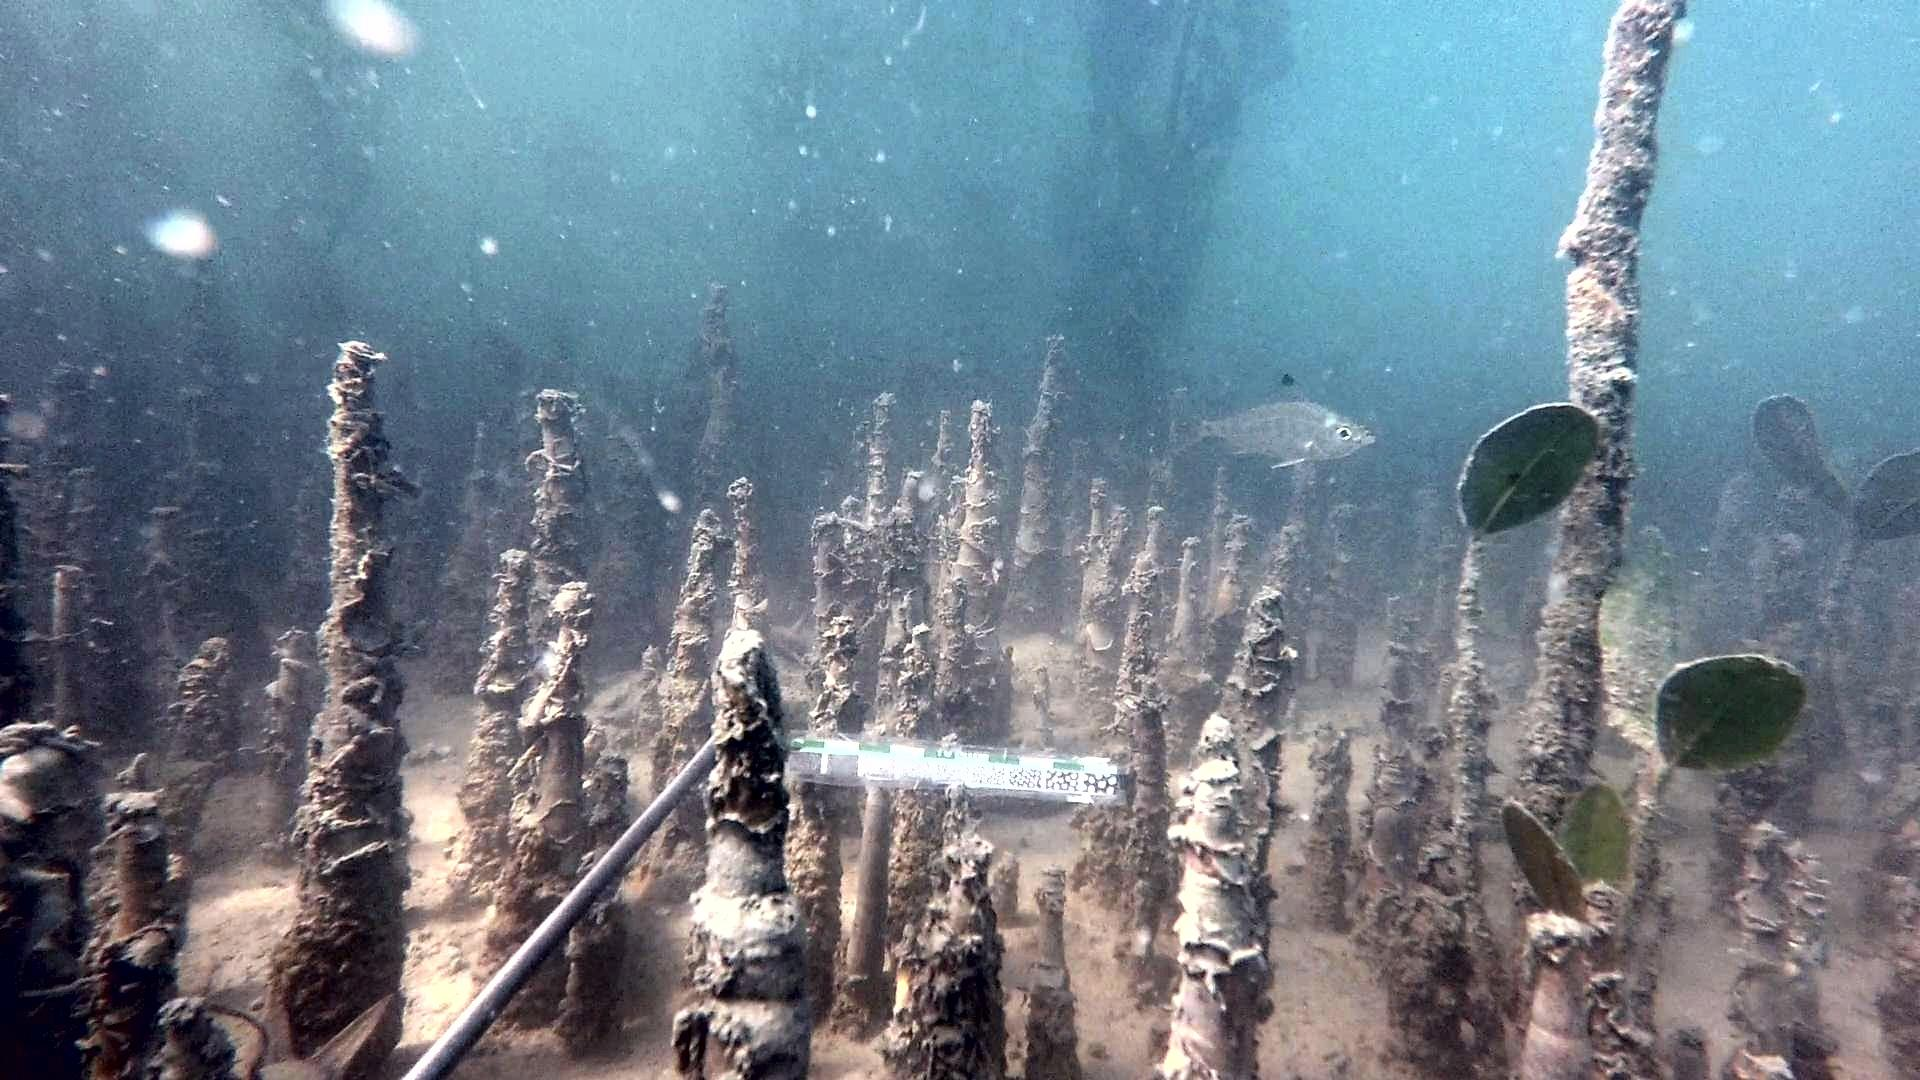gerres: (1178, 372, 1379, 469)
